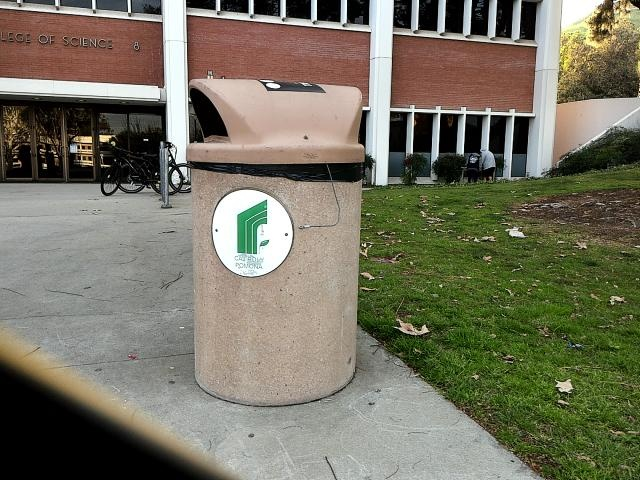trashcan: (161, 79, 367, 411)
